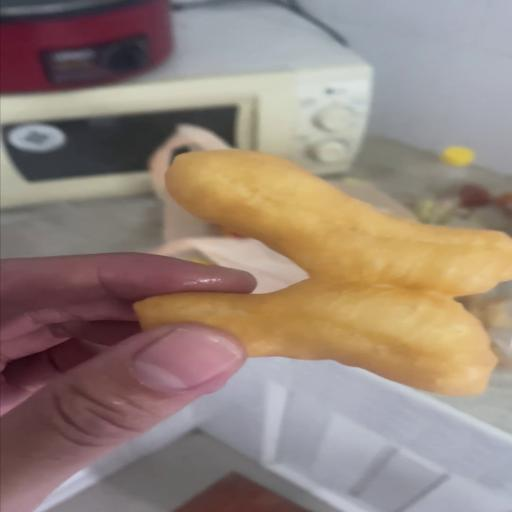street_golden_good: (134, 150, 512, 395)
